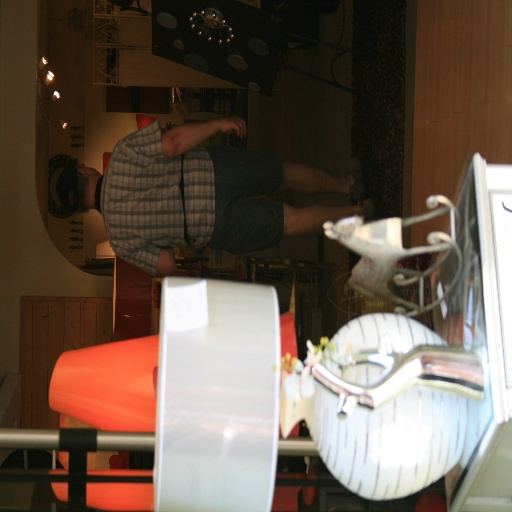hand: (189, 102, 245, 145)
